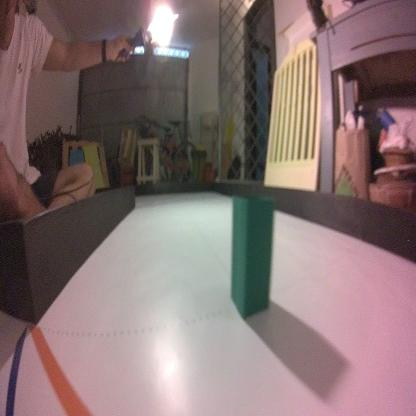green: (228, 192, 277, 321)
